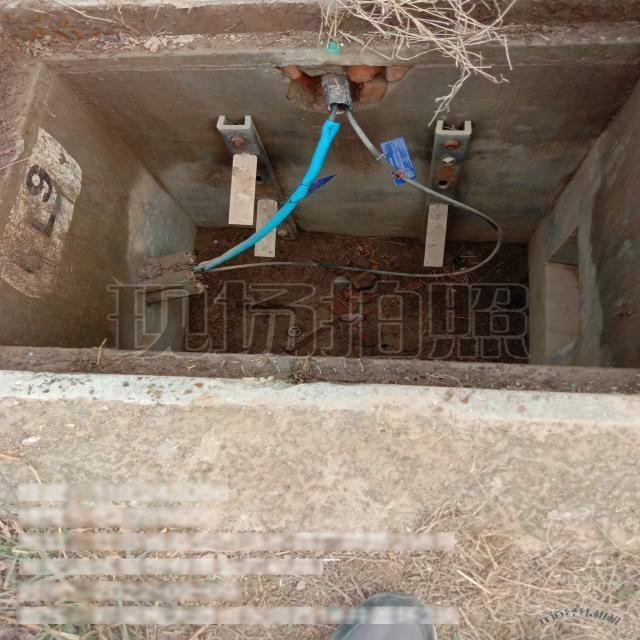Faulty: (3, 22, 640, 394)
